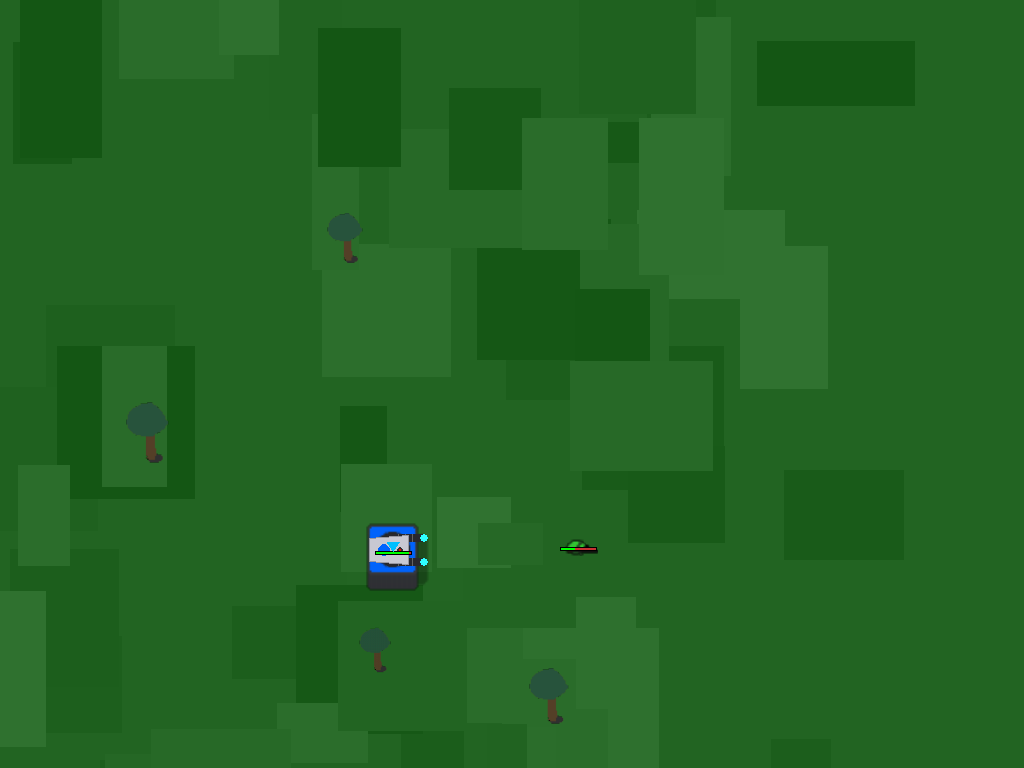Helicopter: (356, 513, 430, 587)
Sniper: (557, 525, 598, 566)
